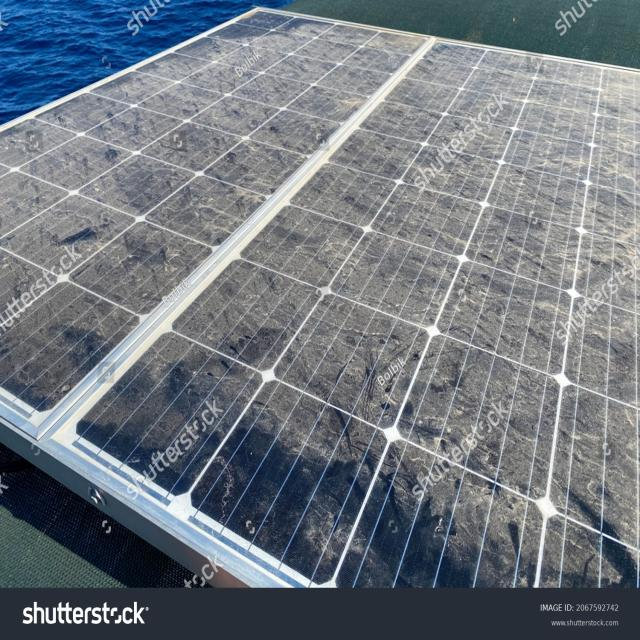faulty: (78, 45, 637, 589), (0, 10, 427, 413)
